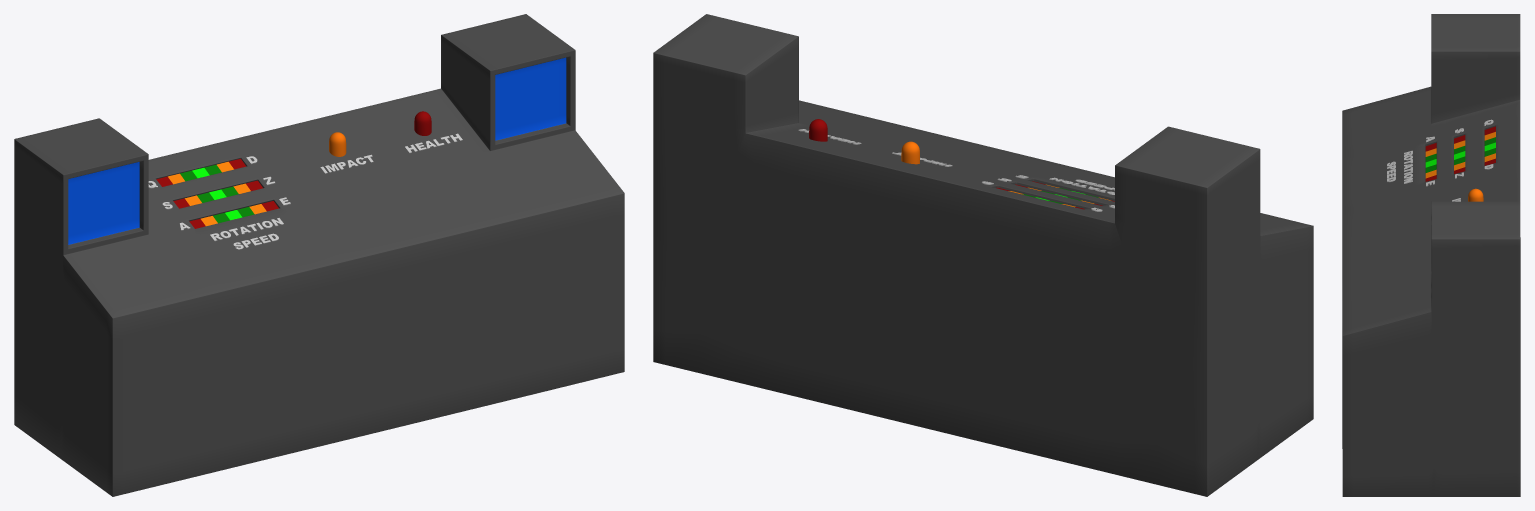
File: Controller_ring.fbx
The picture shows the model from 3 angles, left to right: view 1: azimuth 30°, elevation 25°; view 2: azimuth 150°, elevation 25°; view 3: azimuth 270°, elevation 25°; orthographic projection. The views are drawn at different scales.
Visible parts, largest first — view 1: box, Text003; view 2: box; view 3: box, Text003.
Boxes of the visible parts, left/top/right/bottom form: box: left=14, top=14, right=624, bottom=496; Text003: left=209, top=218, right=283, bottom=249; box: left=653, top=14, right=1313, bottom=496; box: left=1342, top=14, right=1520, bottom=496; Text003: left=1387, top=150, right=1412, bottom=183.
Bounding box in the file's own units: 3 × 1.6 × 1.
